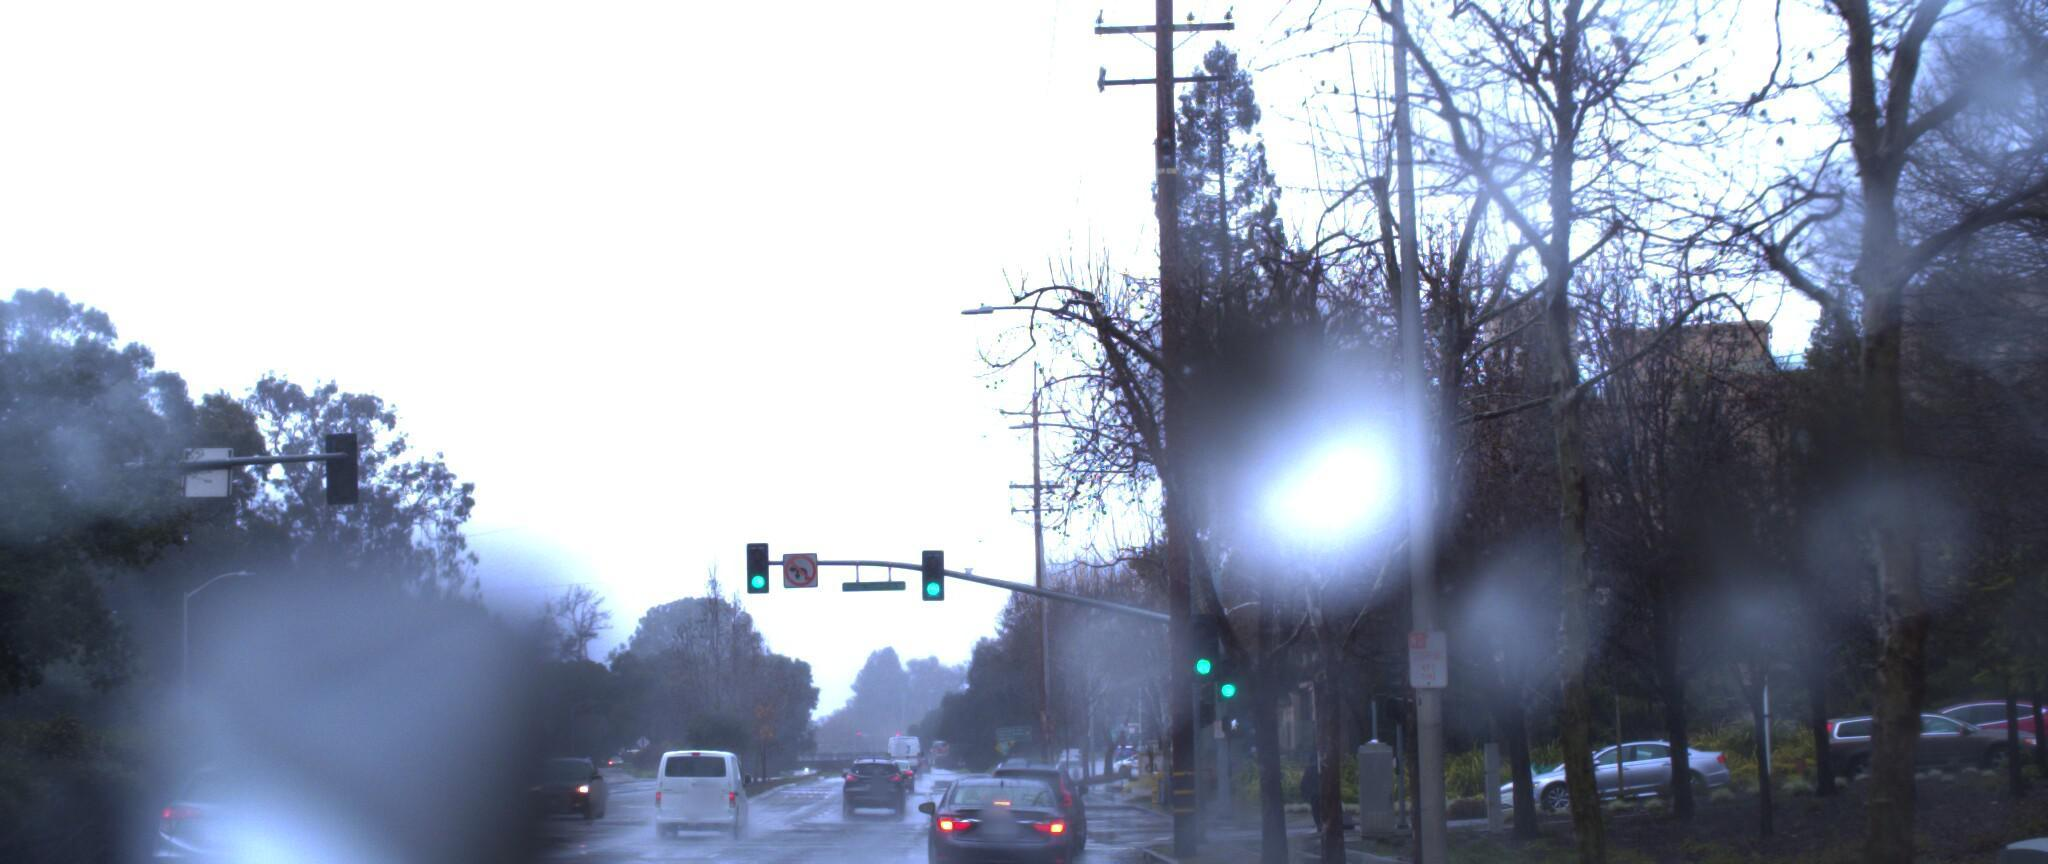car: (142, 749, 421, 864), (1805, 710, 2038, 799), (1486, 735, 1732, 818), (1823, 696, 2048, 779), (906, 761, 1064, 864), (649, 728, 748, 814)
